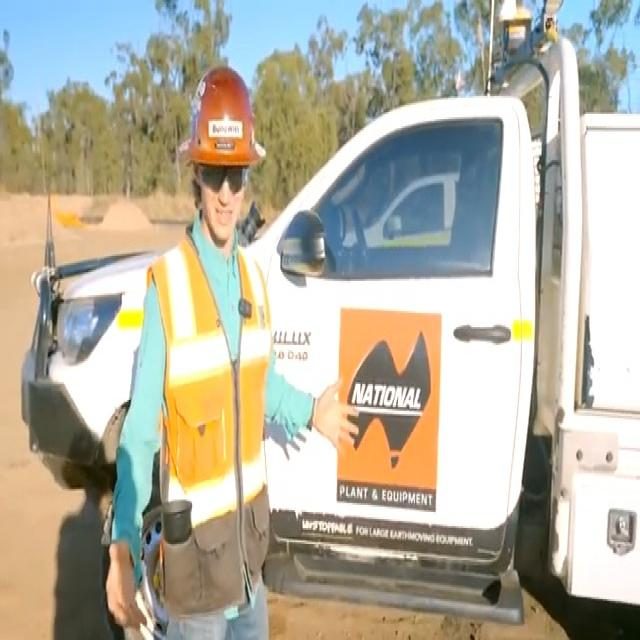safety_helmet: (162, 254, 272, 601)
